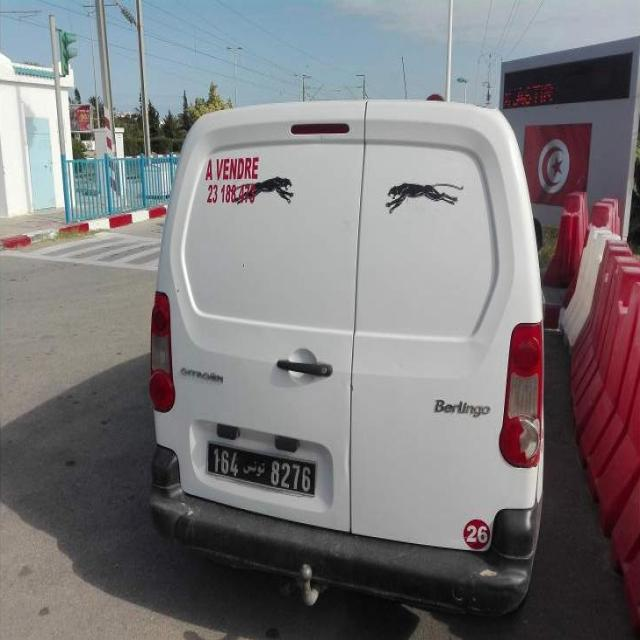licence plate: (208, 444, 315, 494)
